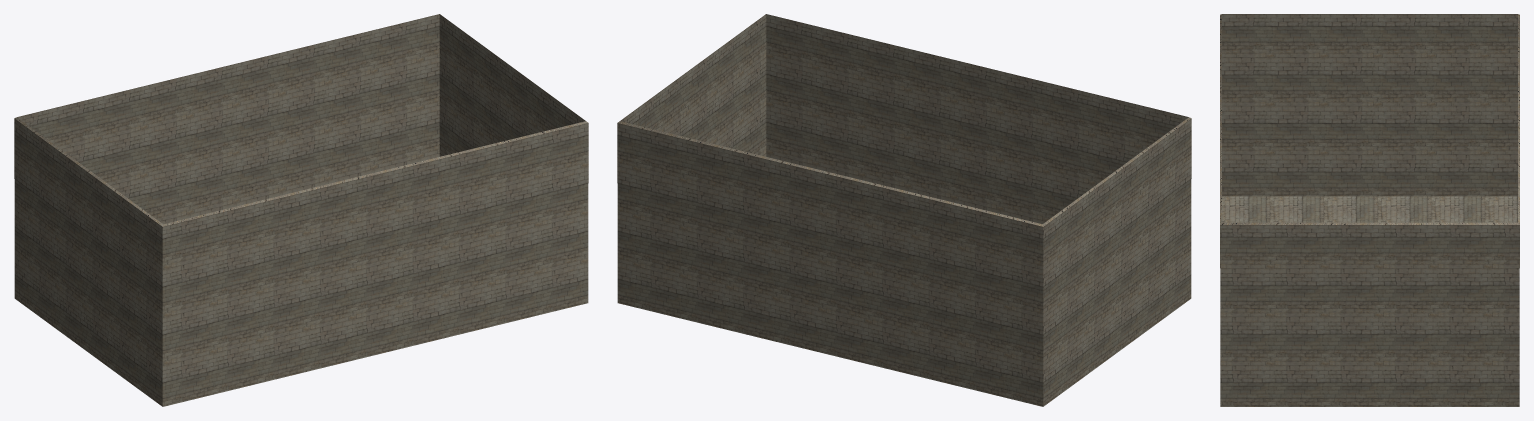
File: Sponza32.gltf
3 views of the same model, side by side, from view 1: azimuth 30°, elevation 25°; view 2: azimuth 150°, elevation 25°; view 3: azimuth 270°, elevation 25° (orthographic).
Size of the model in its own units: 28.91 by 11.79 by 17.43.
Materials: 1 (1 with a texture image).
